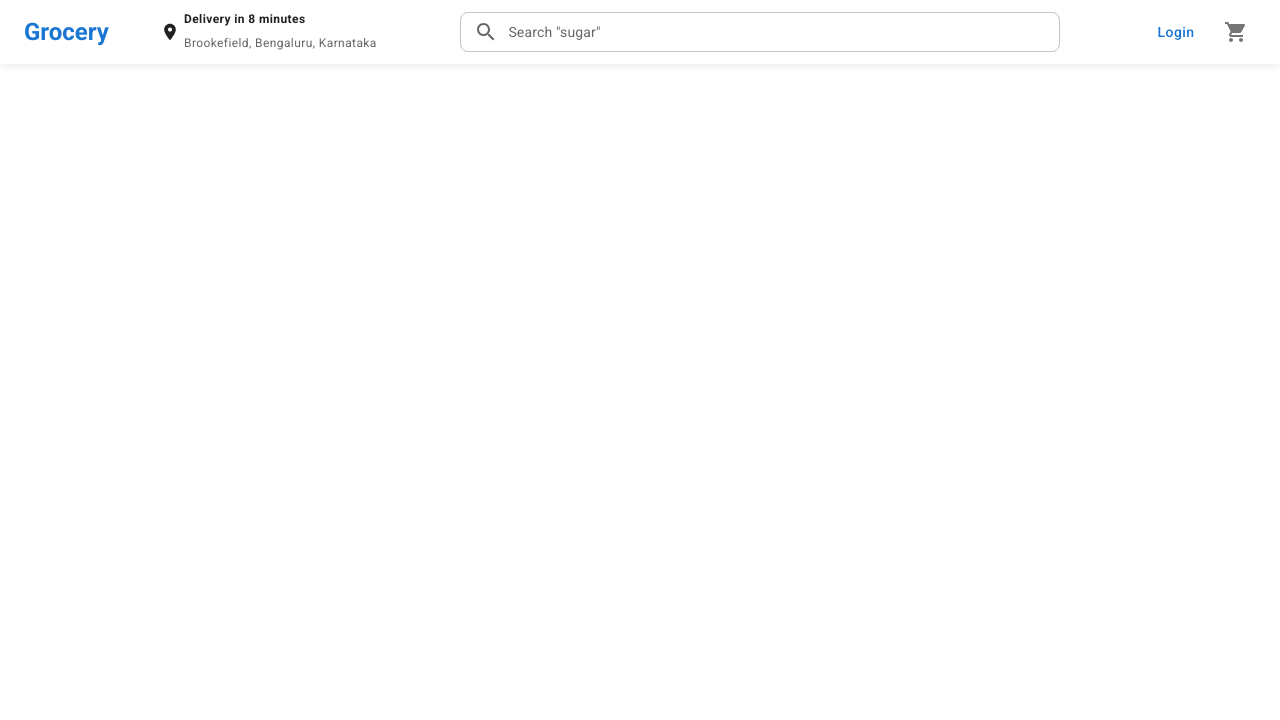
Test: Header Component › opens location modal when location area is clicked
The image size is (1280, 720).
Click the text "Delivery in 8 minutes Brookefield, Bengaluru, Karnataka". click: (216, 19)
box: [184,10,377,54]
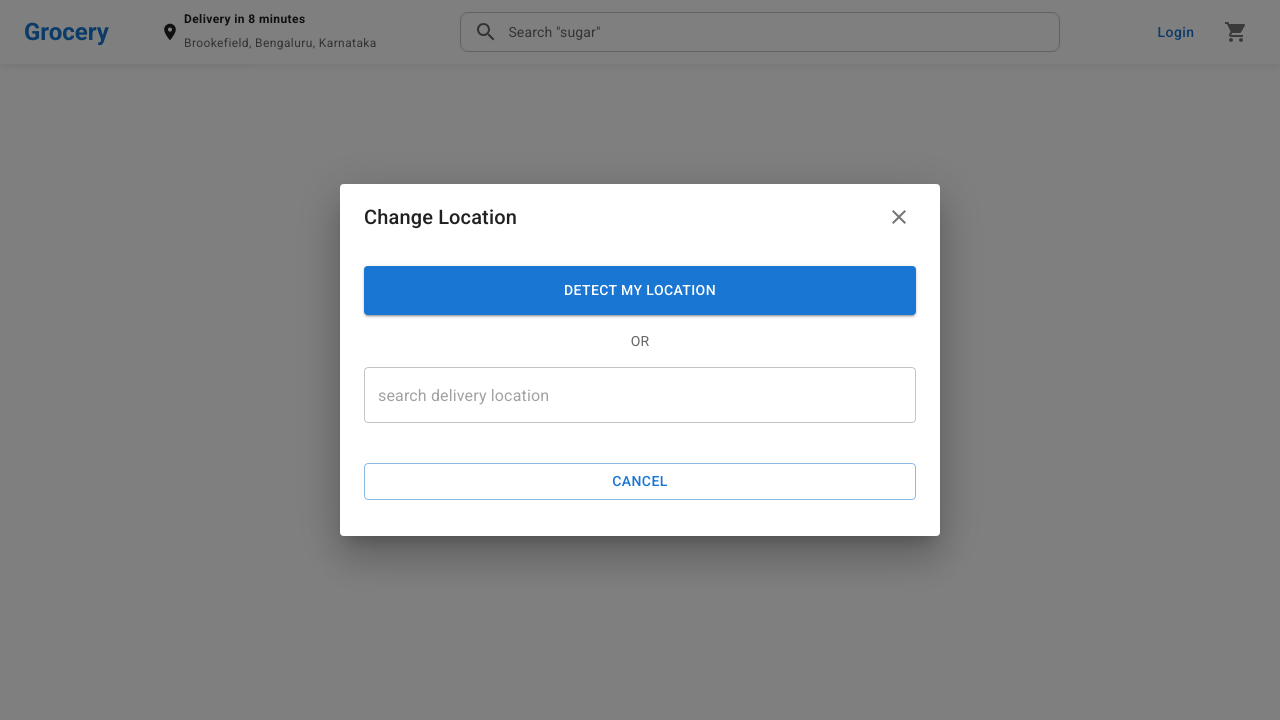
Expected: the heading "Change Location" is shown, [364,200,916,234]
